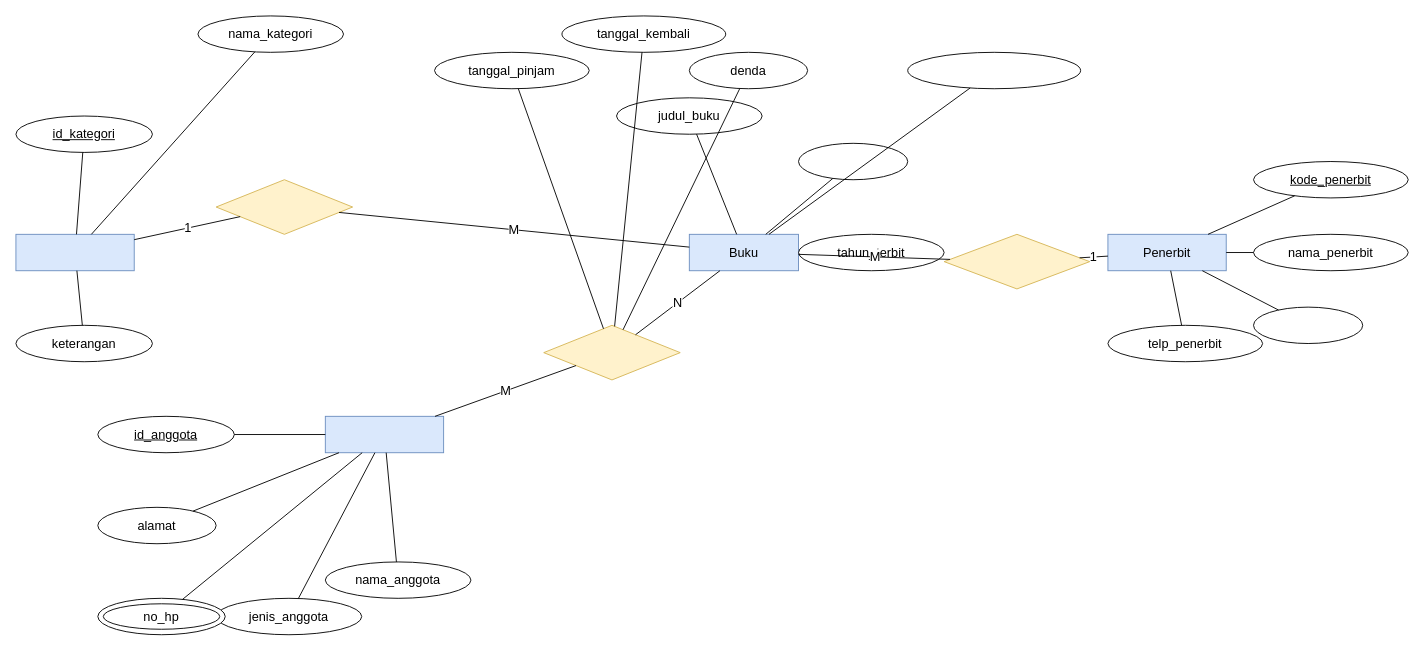
This 1424x651 diagram has some shape labels left out. The shapes that lost their labels are listed below. From the top down, each one's box as (x1, y1, x2, y2) in pixels, then its label:
(907, 51, 1081, 89): jumlah_eksemplar
(798, 142, 908, 180): ISBN
(215, 179, 353, 234): Menaungi
(15, 233, 134, 271): Kategori
(943, 233, 1090, 289): Menerbitkan
(1253, 306, 1363, 344): kota
(543, 324, 680, 380): Meminjam
(324, 415, 444, 453): Anggota
